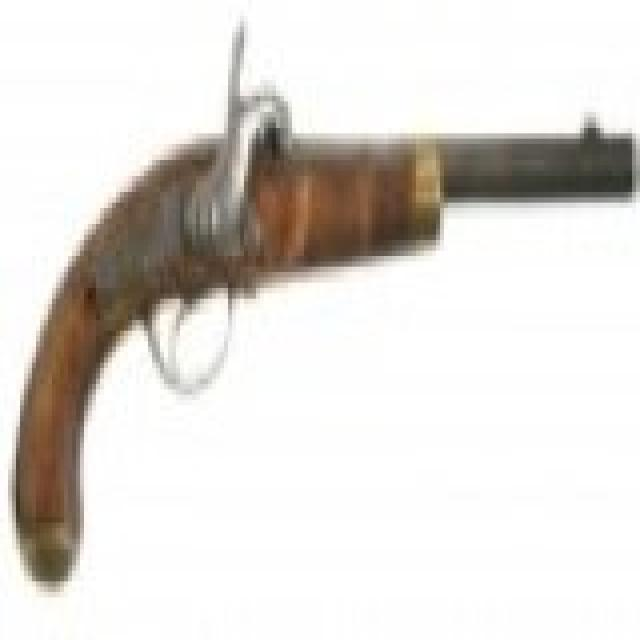Gun: (12, 37, 640, 603)
